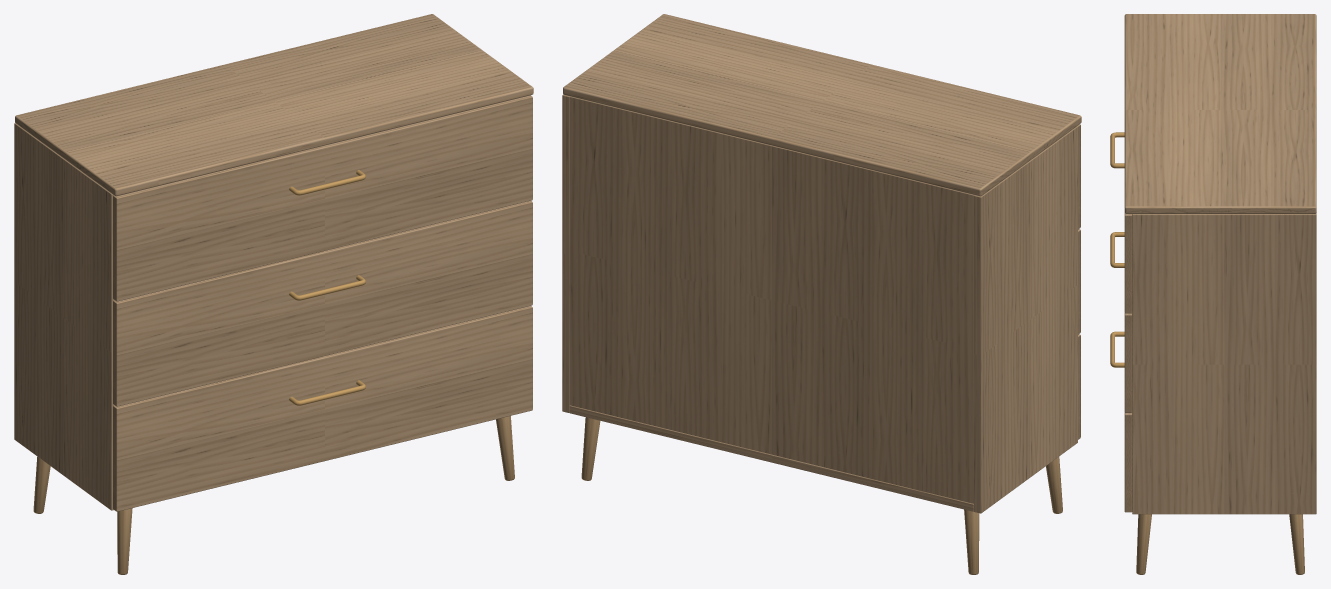
3 renders of one model, left to right at view 1: azimuth 30°, elevation 25°; view 2: azimuth 150°, elevation 25°; view 3: azimuth 270°, elevation 25°, orthographic. The views are drawn at different scales.
Parts seen in each view (by area): view 1: top, drawer_front_2, drawer_front_0, drawer_front_1, side_left, leg_-1_1, leg_1_1, leg_-1_-1; view 2: back_panel, top, side_left, bottom, side_right, leg_-1_-1, leg_1_-1, leg_-1_1; view 3: side_right, top, drawer_front_2, drawer_front_0, drawer_front_1, leg_1_-1, leg_1_1, handle_0, handle_2.
Boxes of the visible parts, x1,y1,x2,y2 form: top: (15,14,533,196); drawer_front_2: (113,95,532,301); drawer_front_0: (113,306,532,511); drawer_front_1: (113,200,532,406); side_left: (14,123,114,510); leg_-1_1: (117,508,132,574); leg_1_1: (496,416,514,480); leg_-1_-1: (33,456,50,513); back_panel: (569,96,974,503); top: (563,14,1081,196); side_left: (974,126,1077,513); bottom: (569,405,973,511); side_right: (562,94,569,412); leg_-1_-1: (964,509,979,574); leg_1_-1: (581,417,600,480); leg_-1_1: (1046,456,1062,513); side_right: (1132,213,1316,514); top: (1124,14,1316,213); drawer_front_2: (1124,213,1132,313); drawer_front_0: (1124,412,1132,512); drawer_front_1: (1124,313,1132,412); leg_1_-1: (1289,514,1304,574); leg_1_1: (1136,514,1151,574); handle_0: (1110,331,1124,367); handle_2: (1110,132,1124,168).
Size of the model in its own units: 1 by 0.9 by 0.45.
5 materials, 4 textured.
